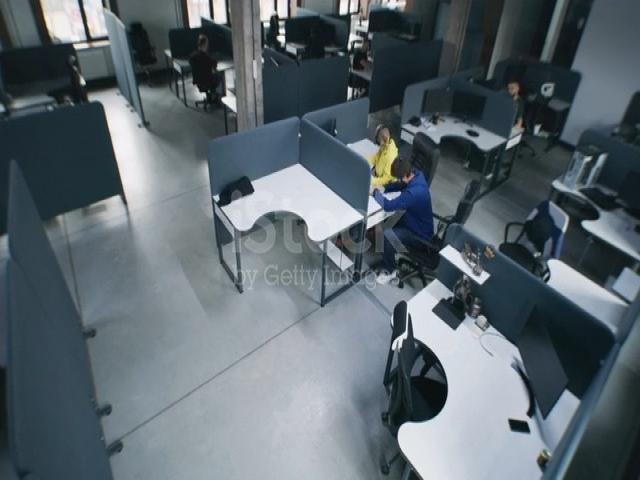empty chair: (361, 283, 456, 442), (510, 187, 582, 315), (604, 90, 640, 178), (125, 17, 162, 79), (56, 51, 94, 104)
occupiedchair: (406, 112, 444, 172), (186, 66, 226, 122), (450, 170, 483, 232), (347, 41, 375, 112), (506, 76, 534, 128)
